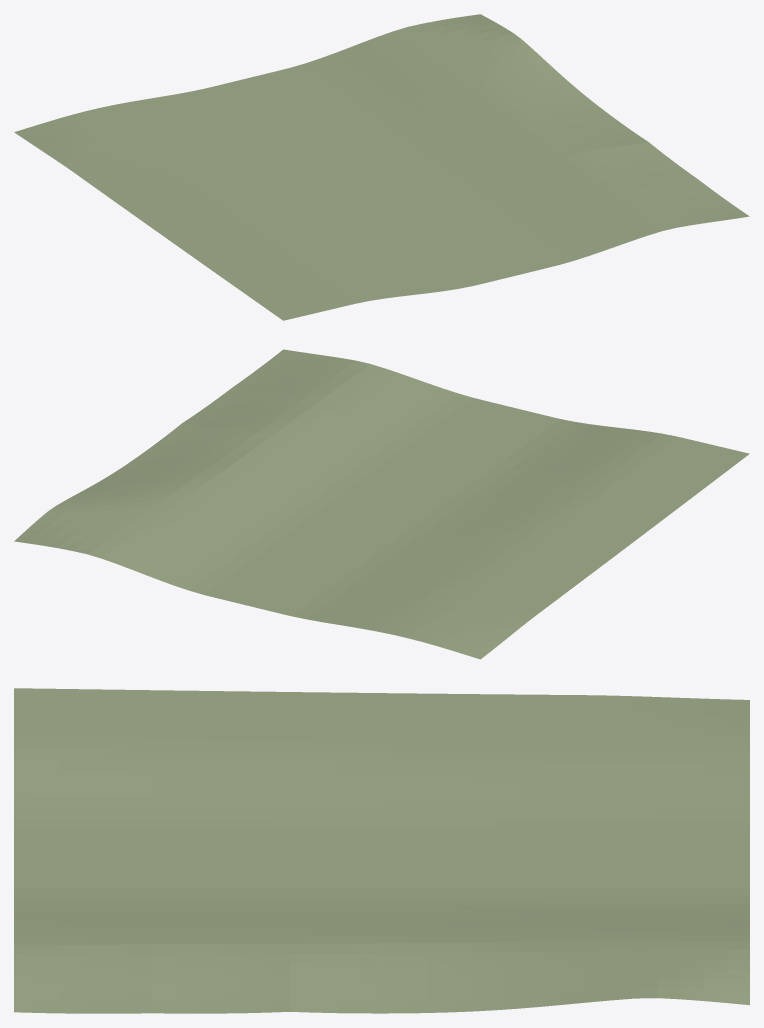
File: gardens-5-3.glb
3 renders of one model, top to bottom at view 1: azimuth 30°, elevation 25°; view 2: azimuth 150°, elevation 25°; view 3: azimuth 270°, elevation 25°, orthographic. The views are drawn at different scales.
Visible parts, largest first — view 1: gardens-5-3; view 2: gardens-5-3; view 3: gardens-5-3.
Part boxes in pixels (left/top/right/bottom): gardens-5-3: left=14, top=14, right=749, bottom=320; gardens-5-3: left=14, top=349, right=749, bottom=659; gardens-5-3: left=14, top=688, right=749, bottom=1013.
Bounding box in the file's own units: 256 × 6.66 × 256.
